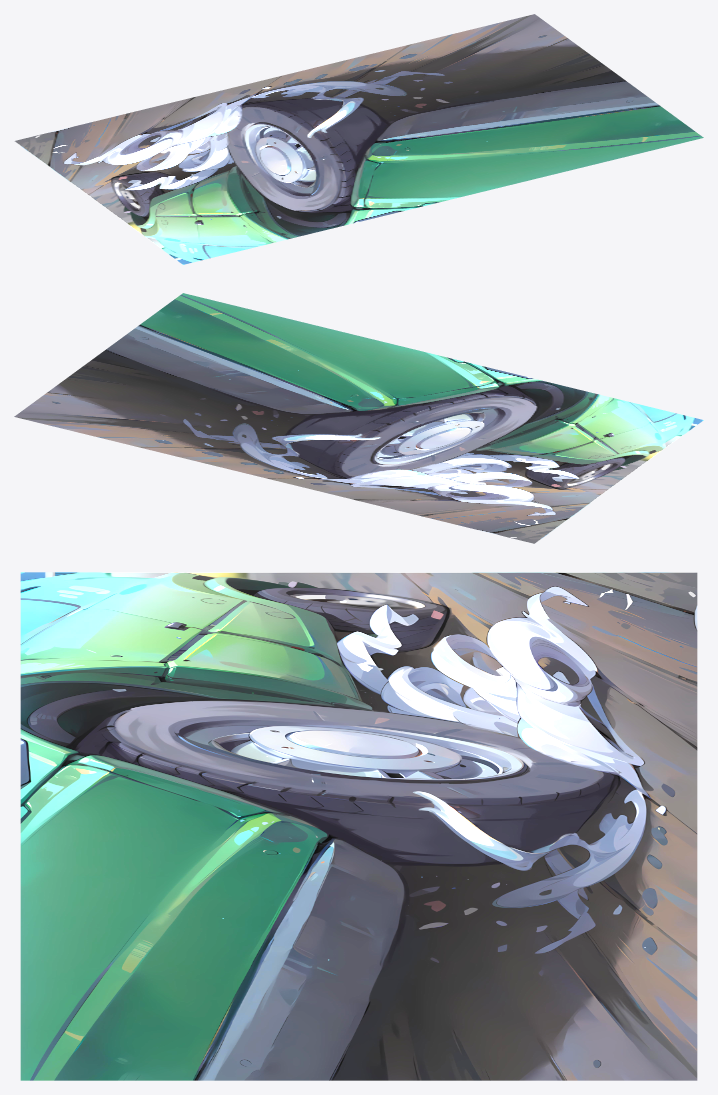
The model's file is cs_car1.glb.
3 views of the same model, one above another, from view 1: azimuth 30°, elevation 25°; view 2: azimuth 150°, elevation 25°; view 3: azimuth 270°, elevation 25° (orthographic). The views are drawn at different scales.
Parts seen in each view (by area): view 1: 01; view 2: 01; view 3: 01.
Part boxes in pixels (x1,y1,x2,y2): 01: (14, 14, 703, 264); 01: (14, 293, 703, 543); 01: (20, 572, 697, 1080).
Size of the model in its own units: 38.4 by 0 by 21.6.
Materials: 16 (16 with a texture image).
